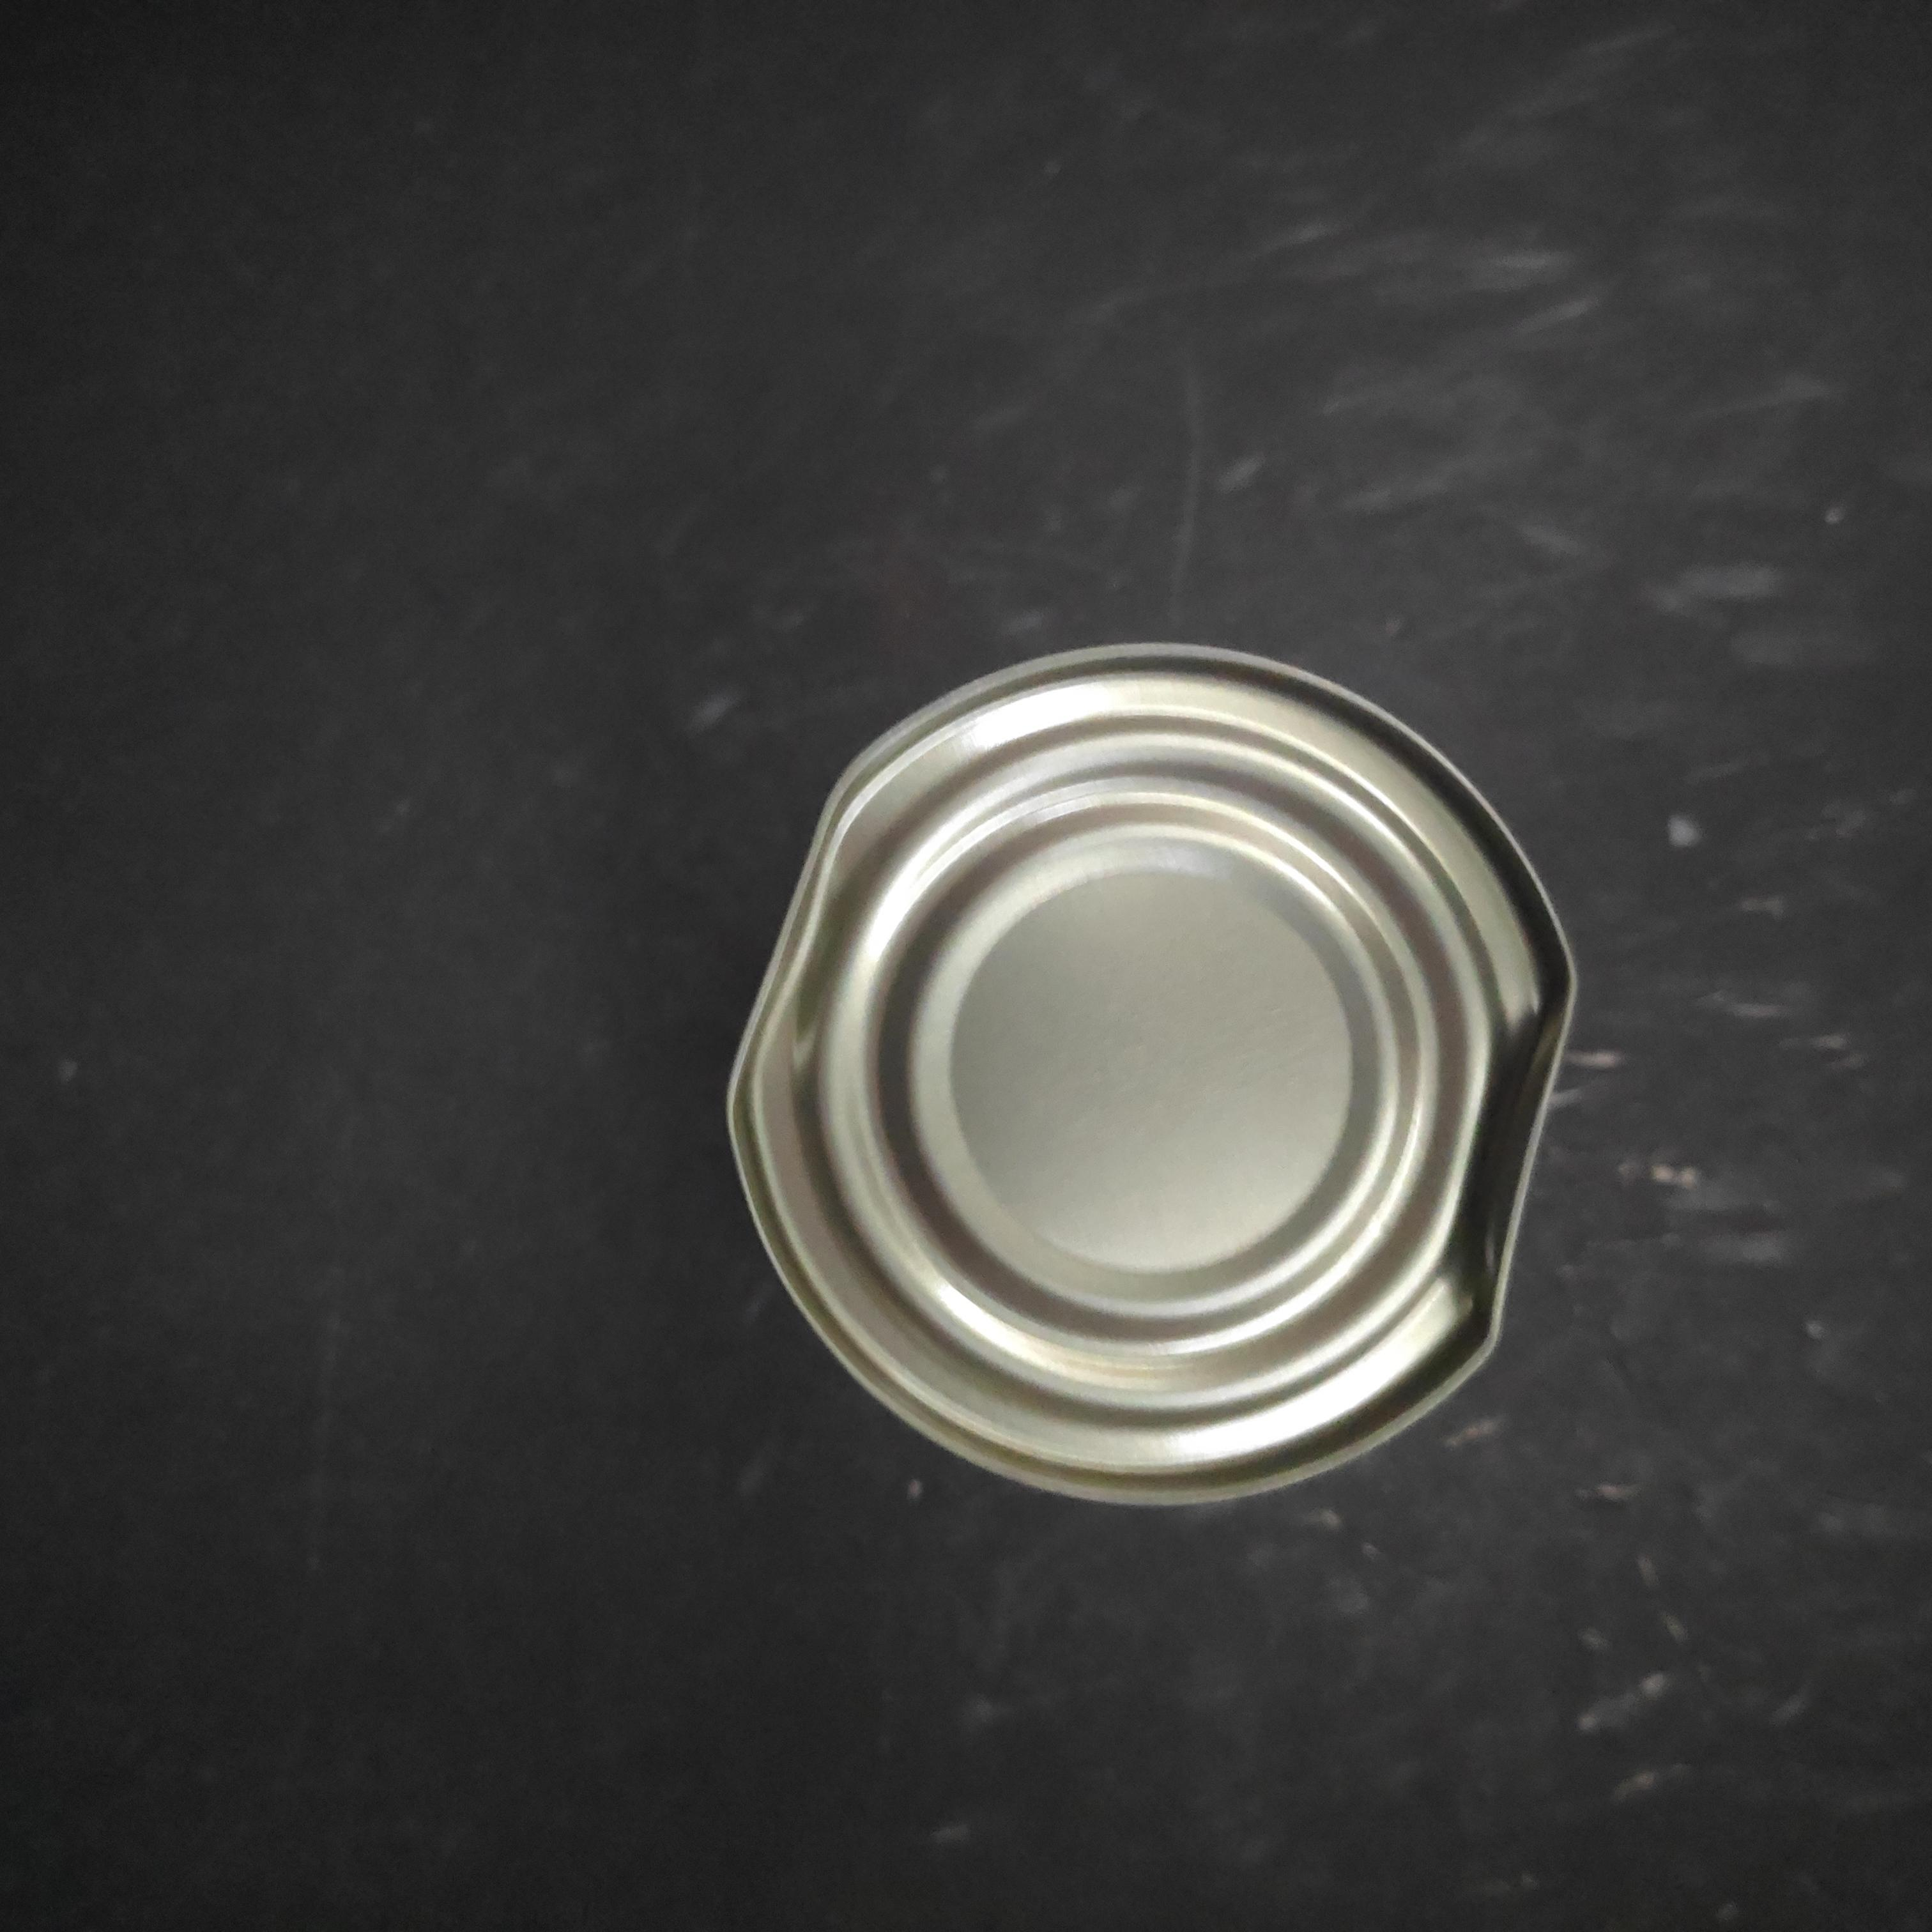Minor Defect: (333, 410, 1230, 1309)
